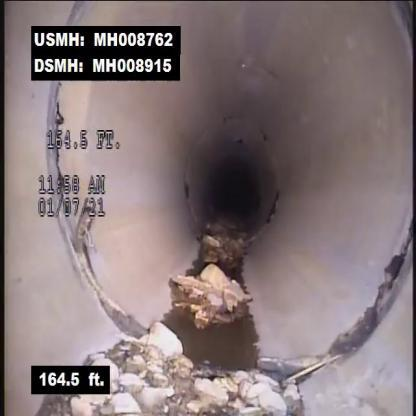Debris: (154, 245, 287, 332)
